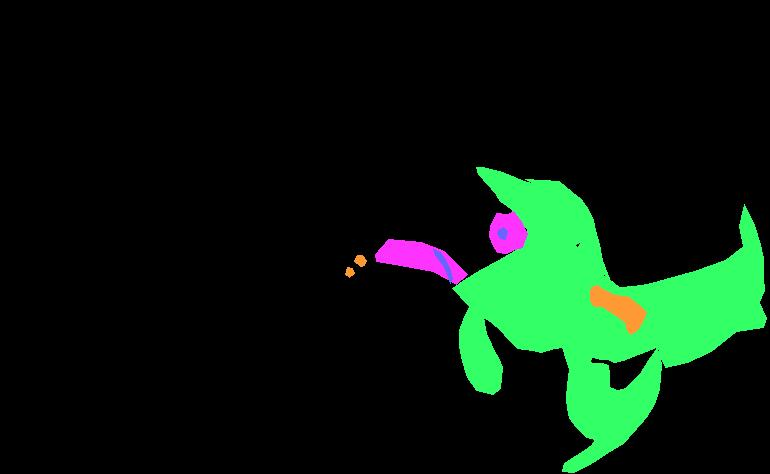Broken part: (452, 204, 766, 472), (525, 179, 609, 278), (476, 167, 581, 246)
Dent: (375, 239, 467, 284), (489, 211, 527, 253)
Paint chip: (590, 285, 646, 334), (354, 255, 366, 266), (345, 267, 354, 277)
Scratch: (433, 249, 452, 283), (497, 227, 507, 239)
